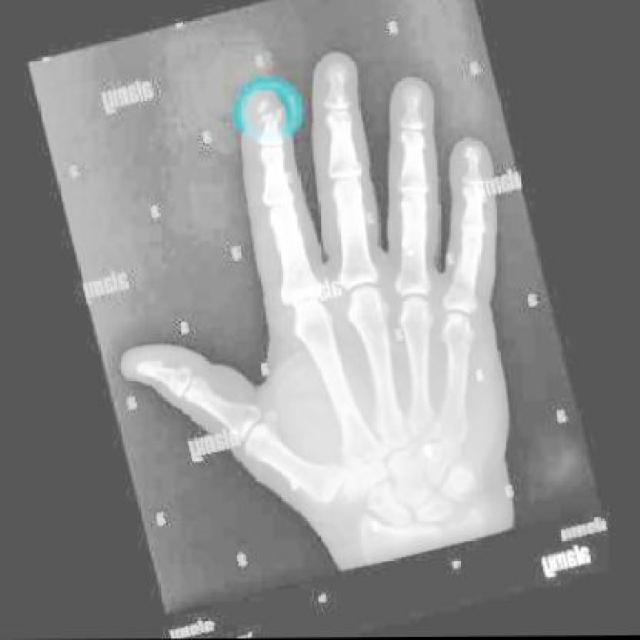Fracture: (243, 91, 286, 141)
